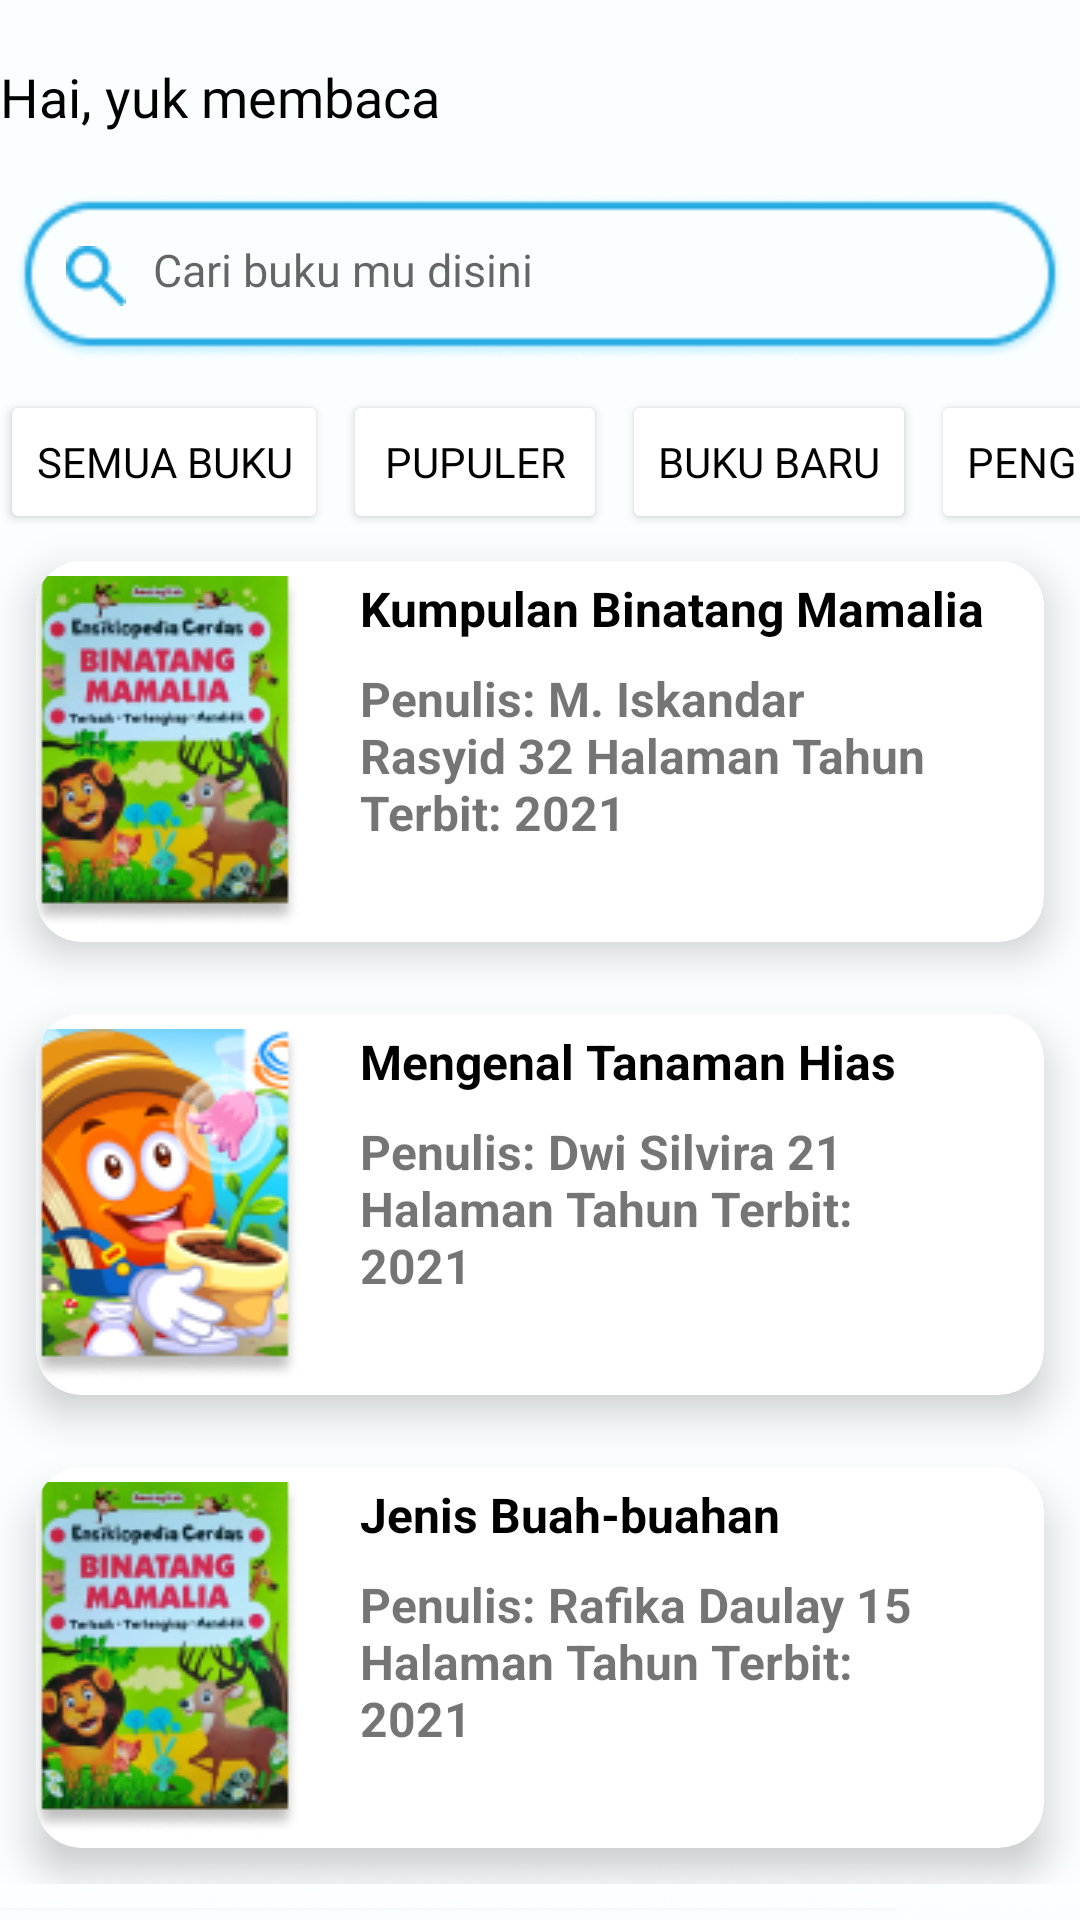

Icons on this 1080 × 1920 Android screen, each with the point to tap as (x,y):
searchicon: (96,276)
